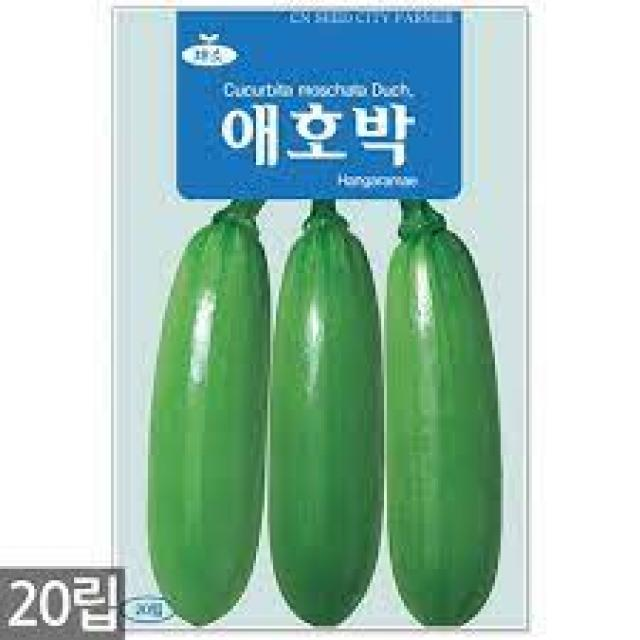Yogurt cup: (151, 202, 270, 627), (270, 202, 384, 629), (387, 202, 501, 629)
